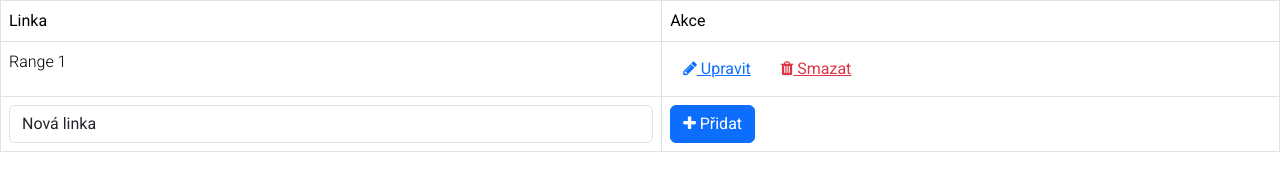
Scenario: Ranges › updates range
Click the button "Upravit": point(717, 69) [670,50,764,88]
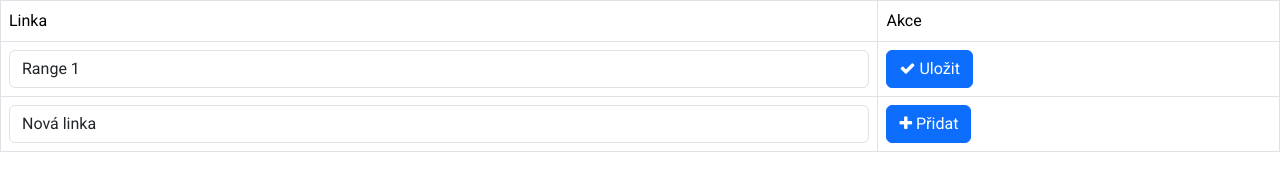
Replace the text in the 1st field with "Range 2": point(440, 69) [9,50,870,88]
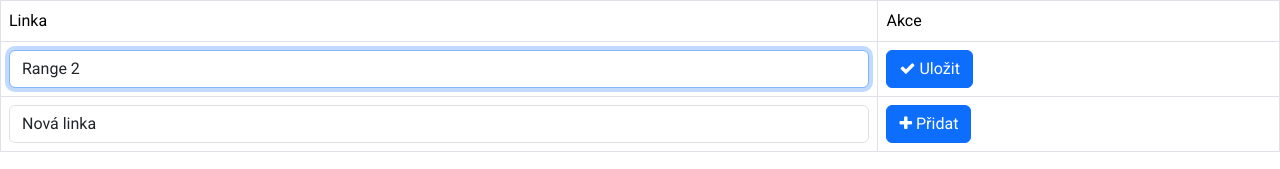
Click the button "Uložit": point(930, 69) [887,50,973,88]
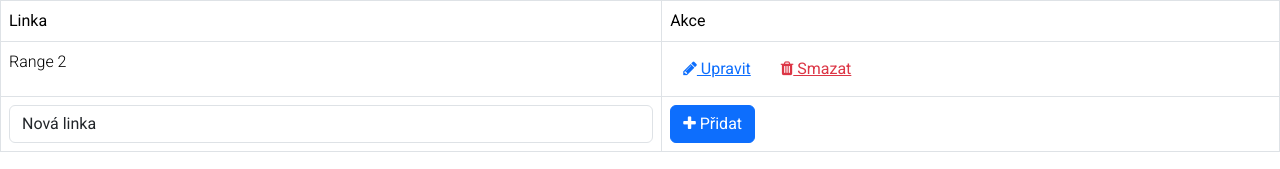
Expected: the text "Range 2" is shown, [0,42,662,96]
